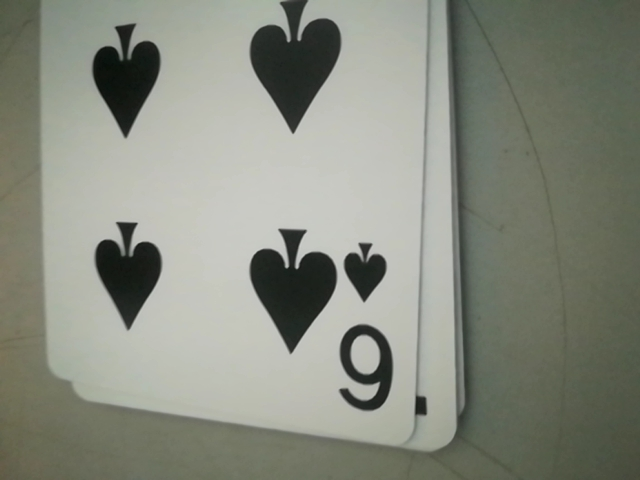ht 6: (332, 236, 410, 425)
